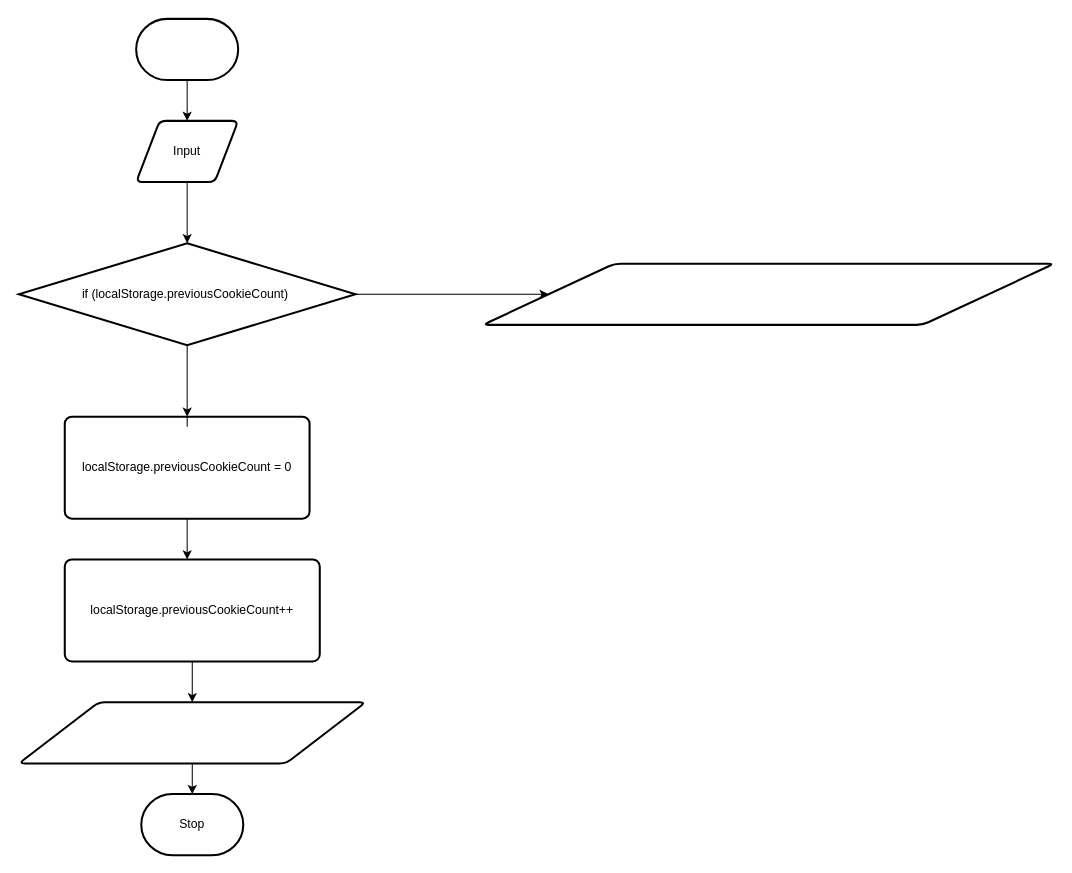
Image size: 1072x873. Some labels were removed from this diagram. Each missing label, with the centre of its shape:
"Your cookie count is " + localStorage.previousCookieCount + ".": point 768,293
Output localStorage.previousCookieCount: point 191,732
Start: point 187,49
